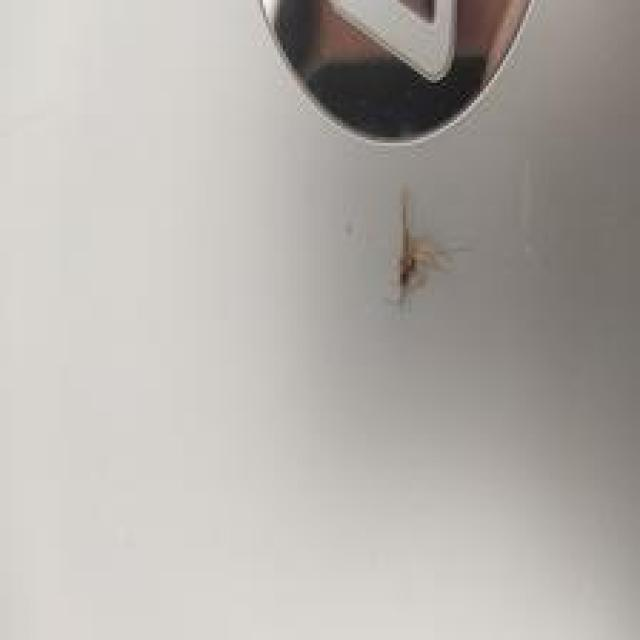Culex: (384, 183, 467, 308)
